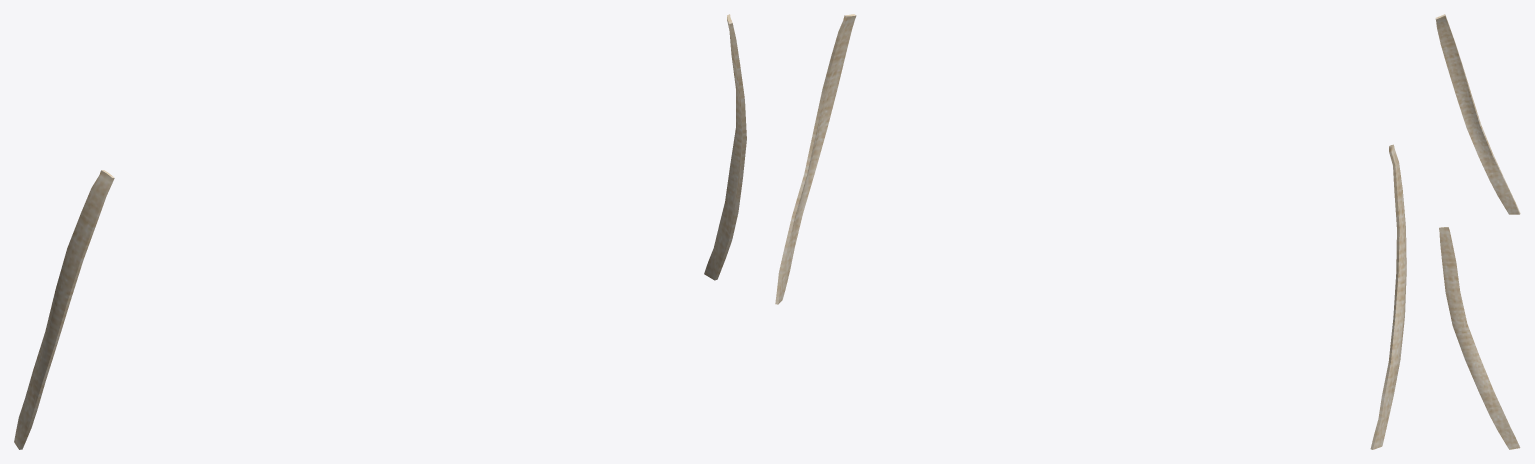
Rendered from pocket_jeted.glb.
The picture shows the model from 3 angles, left to right: view 1: azimuth 30°, elevation 25°; view 2: azimuth 150°, elevation 25°; view 3: azimuth 270°, elevation 25°; orthographic projection. The views are drawn at different scales.
Parts seen in each view (by area): view 1: pocket_jeted1; view 2: pocket_jeted1; view 3: pocket_jeted1.
Part boxes in pixels (<box>): pocket_jeted1: <box>14,14,746,449</box>; pocket_jeted1: <box>775,14,1406,449</box>; pocket_jeted1: <box>1435,14,1520,449</box>.
Bounding box in the file's own units: 0.05 × 0.0209 × 0.00759.
1 material, 1 textured.
